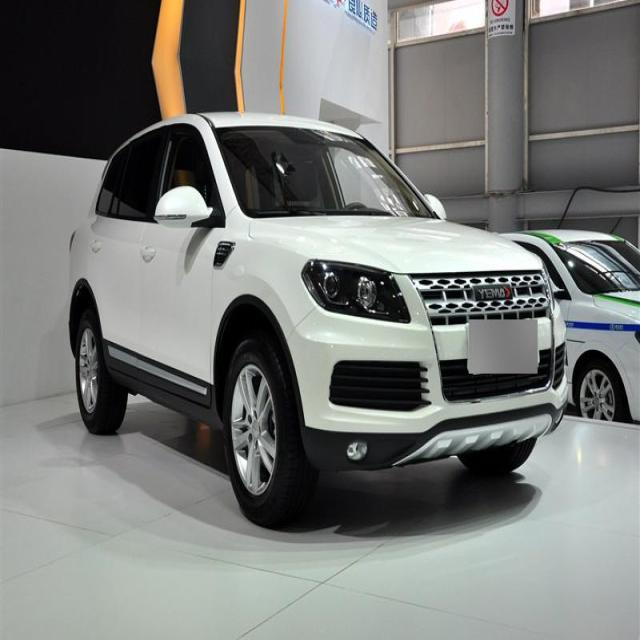door: (106, 122, 173, 364)
front_bumper: (286, 299, 568, 471)
front_glass: (211, 124, 435, 219)
front_right_side_door: (141, 113, 219, 416)
front_right_side_light: (301, 256, 411, 326)
front_right_side_mirror: (154, 183, 216, 236)
wheel: (225, 338, 296, 522), (77, 312, 117, 436)
